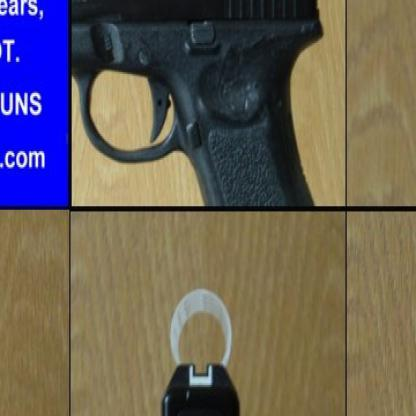gun: (72, 0, 326, 205), (156, 352, 298, 414)
